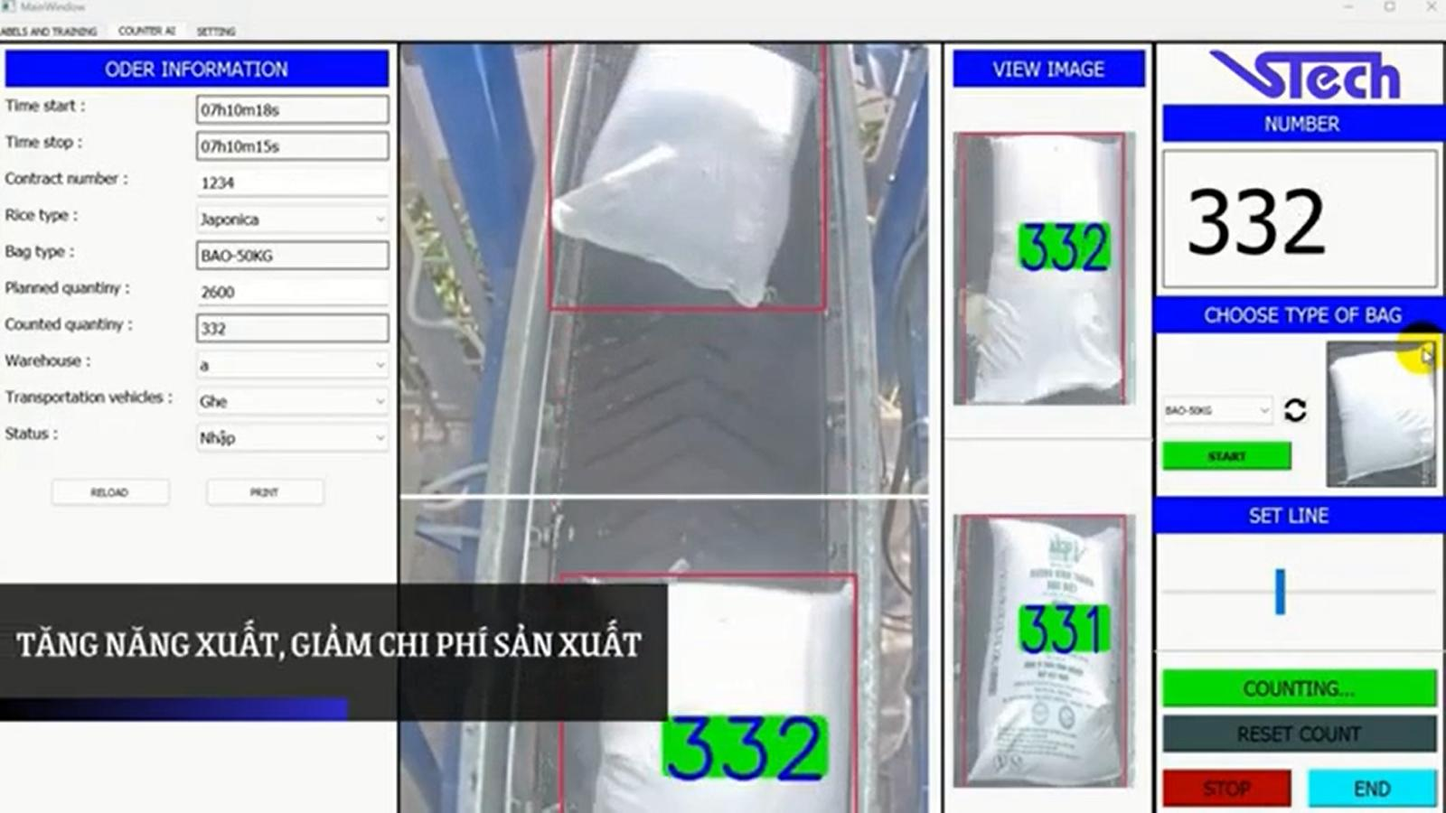rice-bag: (550, 44, 818, 307), (581, 574, 858, 812), (966, 135, 1122, 404), (970, 520, 1121, 786)
